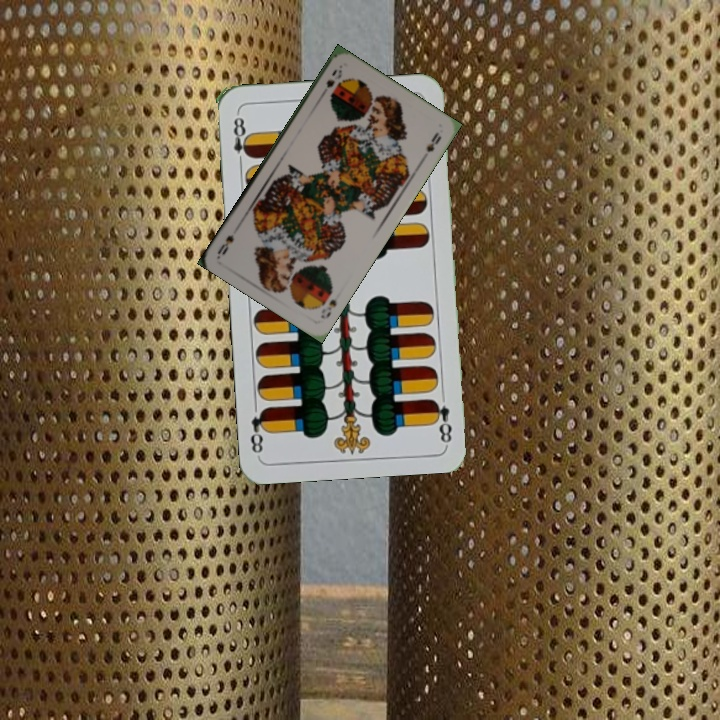E8: (428, 387, 454, 445), (229, 110, 254, 169)
SO: (317, 295, 339, 322), (322, 65, 345, 90)
